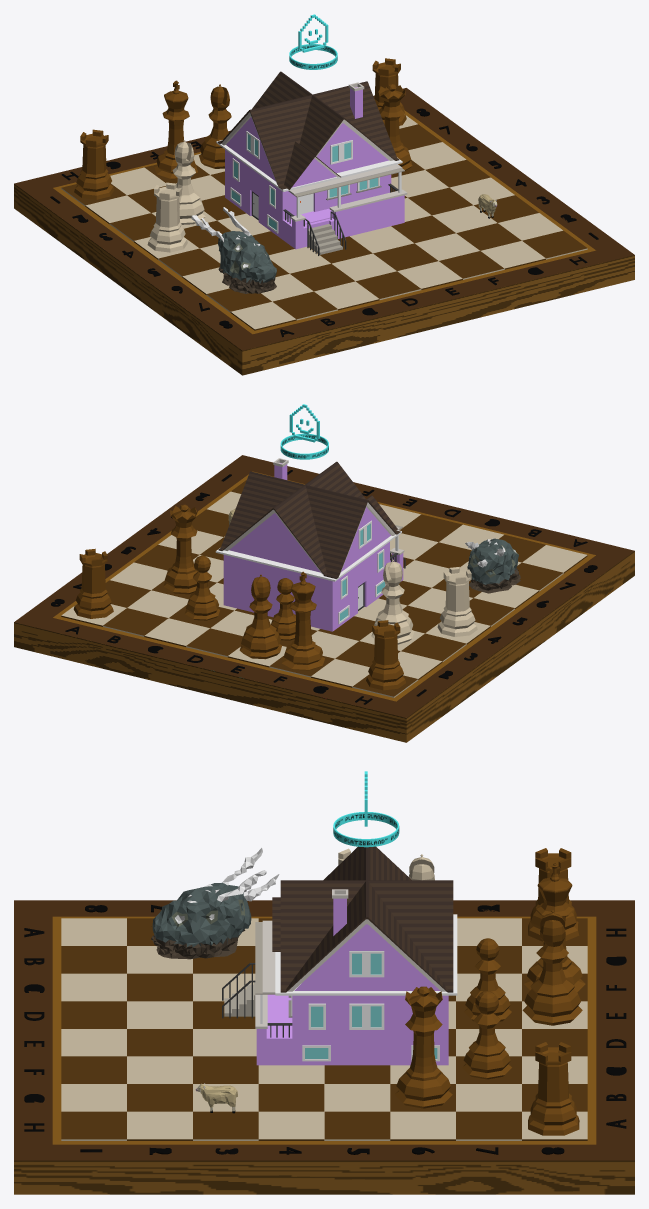
The picture shows the model from 3 angles, top to bottom: view 1: azimuth 30°, elevation 25°; view 2: azimuth 150°, elevation 25°; view 3: azimuth 270°, elevation 25°; orthographic projection. The views are drawn at different scales.
Parts seen in each view (by area): view 1: Cube.002, Cube.391, OBJRANDOM_METEORITE, TYPE_PREMIUM; view 2: Cube.002, Cube.391, OBJRANDOM_METEORITE, TYPE_PREMIUM; view 3: Cube.002, Cube.391, OBJRANDOM_METEORITE, TYPE_PREMIUM, ANIMAL_OVEJA.
Boxes of the visible parts, box(x1,y1,x2,y2) form: Cube.002: box(14, 58, 634, 375); Cube.391: box(216, 71, 407, 255); OBJRANDOM_METEORITE: box(191, 207, 276, 293); TYPE_PREMIUM: box(289, 14, 337, 69); Cube.002: box(14, 455, 634, 742); Cube.391: box(215, 458, 405, 631); OBJRANDOM_METEORITE: box(465, 538, 520, 593); TYPE_PREMIUM: box(280, 404, 328, 459); Cube.002: box(14, 848, 634, 1194); Cube.391: box(222, 846, 457, 1065); OBJRANDOM_METEORITE: box(151, 848, 279, 959); TYPE_PREMIUM: box(333, 771, 399, 847); ANIMAL_OVEJA: box(195, 1083, 237, 1113).
Size of the model in its own units: 3981 by 2155 by 4012.
Materials: 33 (3 with a texture image).
